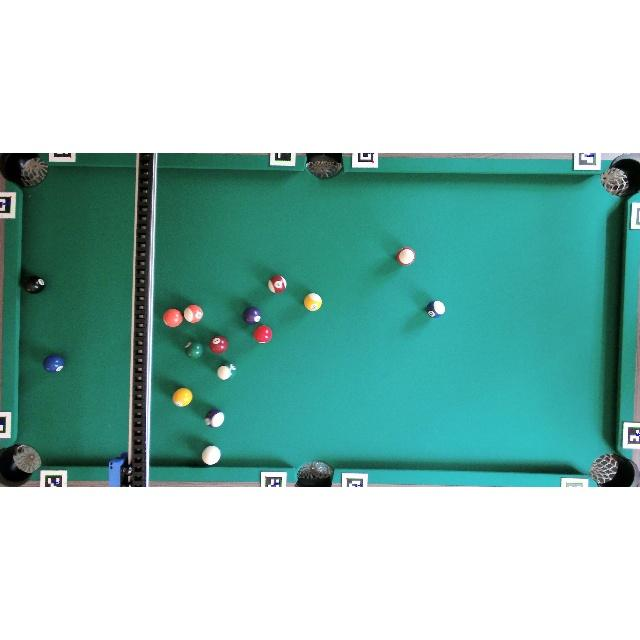cue ball: (201, 446, 221, 465)
other: (22, 276, 46, 294), (43, 354, 64, 373), (396, 247, 416, 266), (172, 388, 192, 407), (163, 308, 182, 328), (205, 409, 224, 428), (426, 300, 446, 318), (184, 305, 203, 323), (268, 275, 287, 293), (304, 293, 322, 311), (210, 336, 228, 354), (254, 326, 272, 344), (185, 341, 203, 359), (243, 307, 261, 324), (217, 364, 236, 380)
